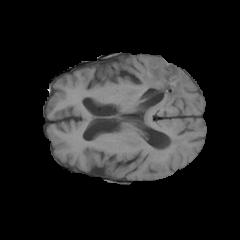glioma: (141, 61, 190, 157)
